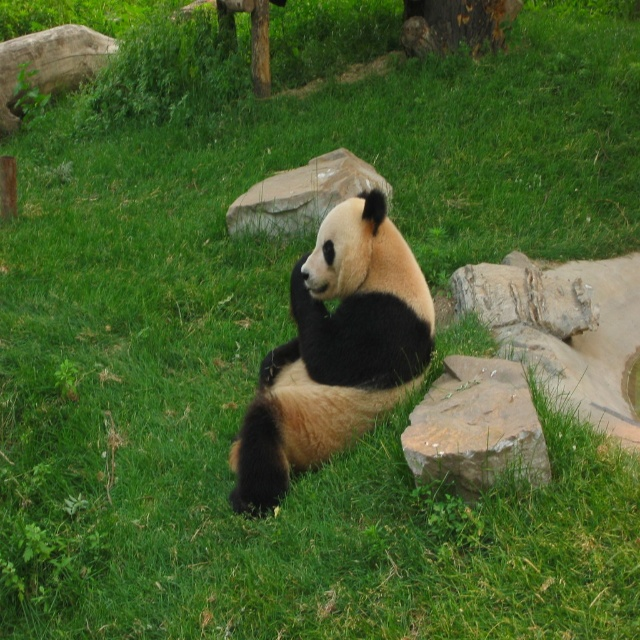Panda: (228, 184, 438, 520)
